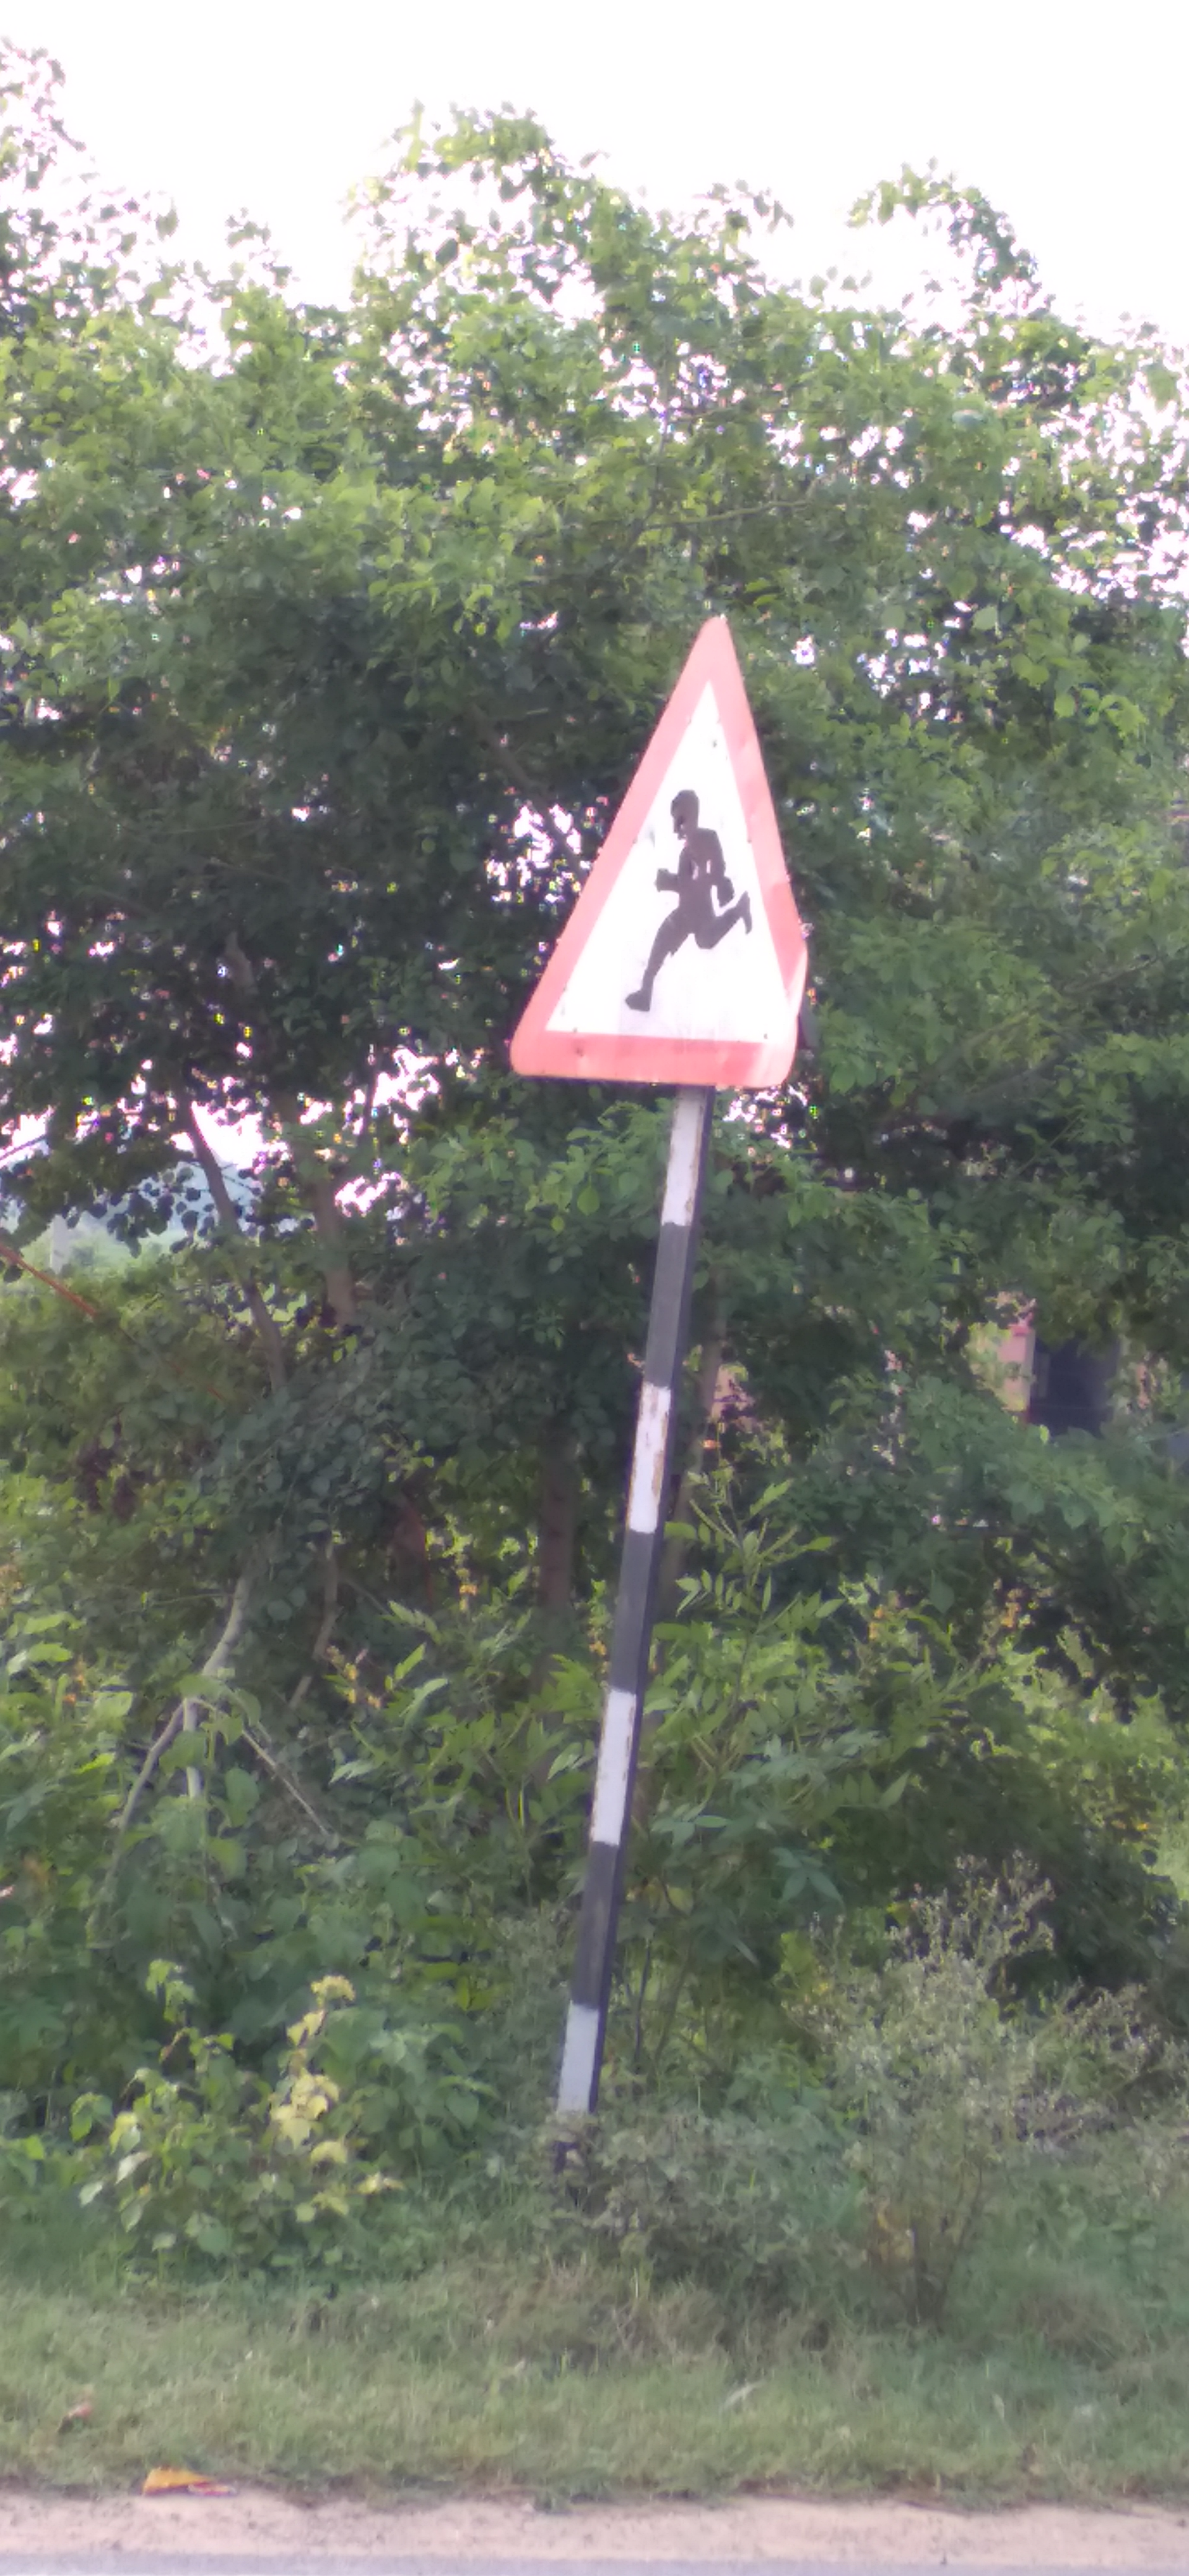traffic_sign: (504, 608, 816, 1097)
